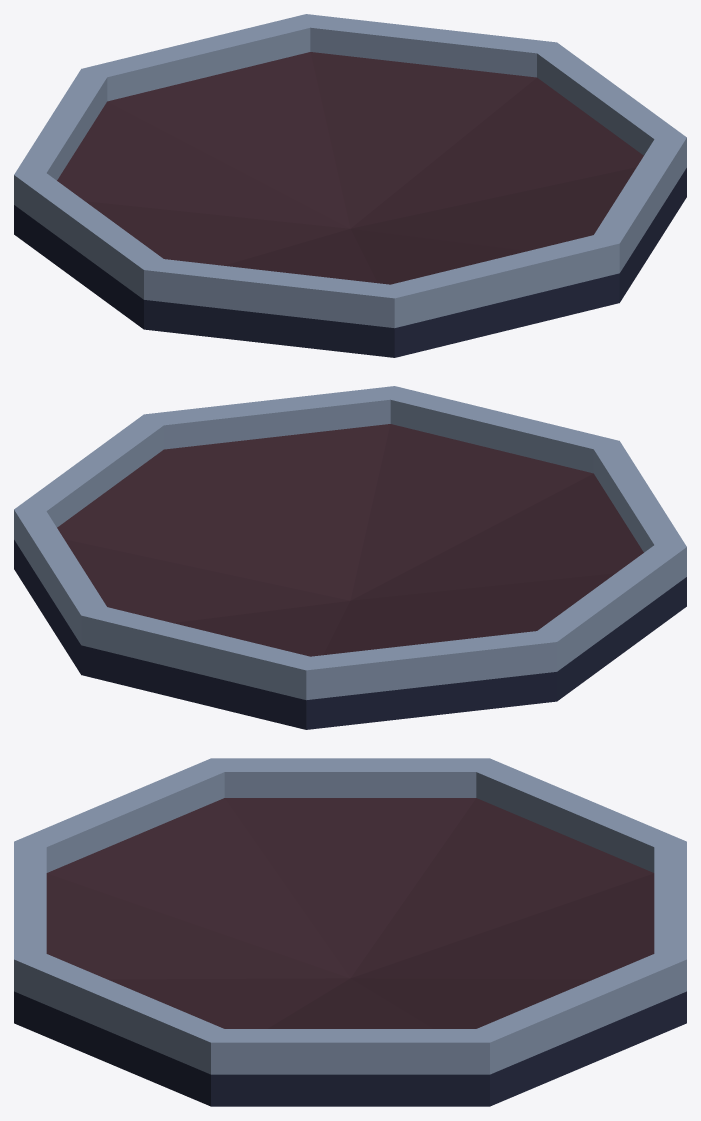
File: buckler.glb
3 views of the same model, one above another, from view 1: azimuth 30°, elevation 25°; view 2: azimuth 150°, elevation 25°; view 3: azimuth 270°, elevation 25° (orthographic). The views are drawn at different scales.
Visible parts, largest first — view 1: Buckler; view 2: Buckler; view 3: Buckler.
Part boxes in pixels (<box>): Buckler: <box>14,14,686,357</box>; Buckler: <box>14,386,686,729</box>; Buckler: <box>14,758,686,1106</box>.
Size of the model in its own units: 0.8814 by 0.207 by 0.8814.
1 material, 1 textured.
